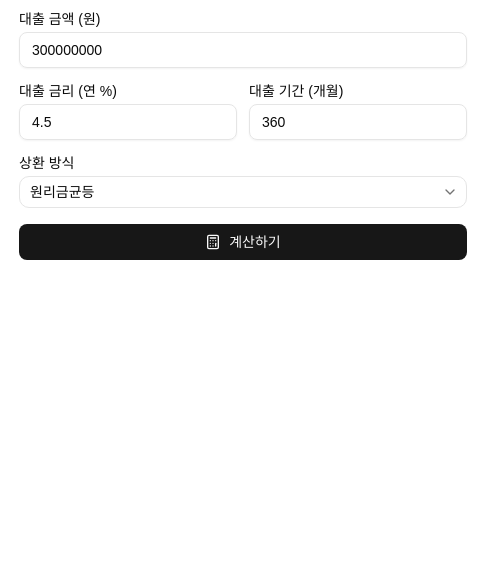
it: LoanCalculator › computes and displays the result for the default (원리금균등) inputs
This screenshot has width=487, height=581.
Click the button "계산하기". click: (243, 242)
box: x1=19 y1=224 x2=467 y2=260
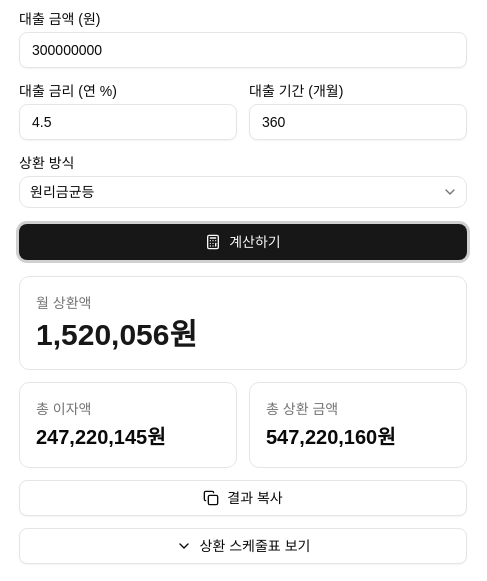
Result: the text "월 상환액" is shown at x1=36 y1=295 x2=91 y2=311
Result: the text "1,520,056원" is shown at x1=36 y1=318 x2=197 y2=351
Result: the text "247,220,145원" is shown at x1=36 y1=426 x2=166 y2=448
